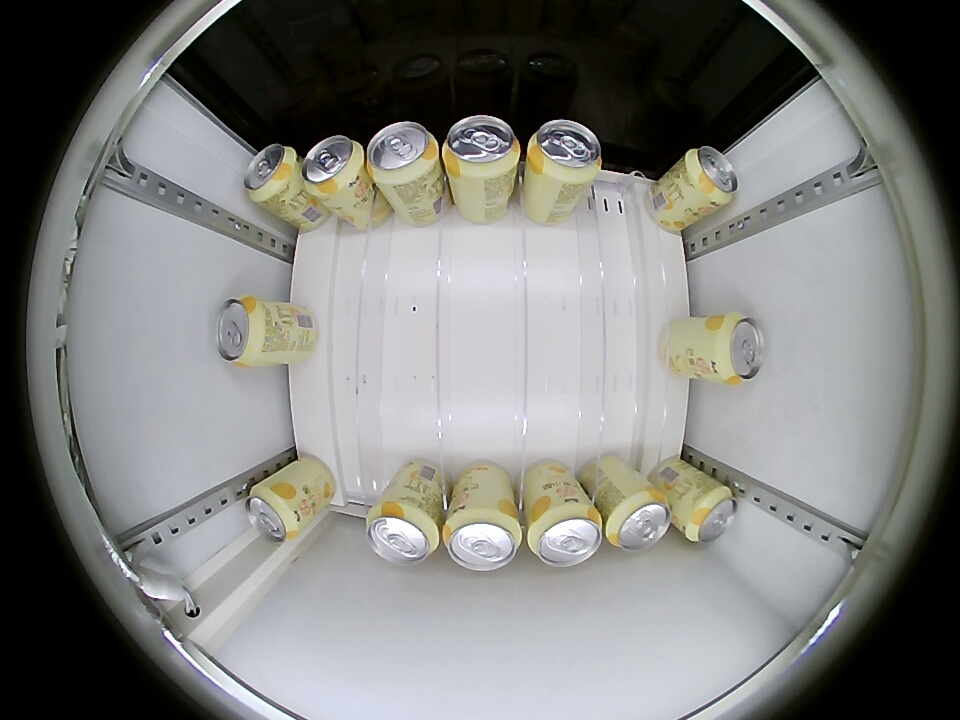mangguoxiaolao: (443, 506, 523, 571), (527, 500, 604, 567), (442, 116, 521, 180), (366, 500, 440, 566), (526, 120, 603, 183), (366, 122, 440, 187), (606, 489, 672, 552), (709, 313, 765, 385), (302, 136, 366, 198), (215, 296, 269, 367), (244, 482, 303, 544), (683, 145, 740, 207), (243, 143, 298, 206), (683, 484, 739, 544)
